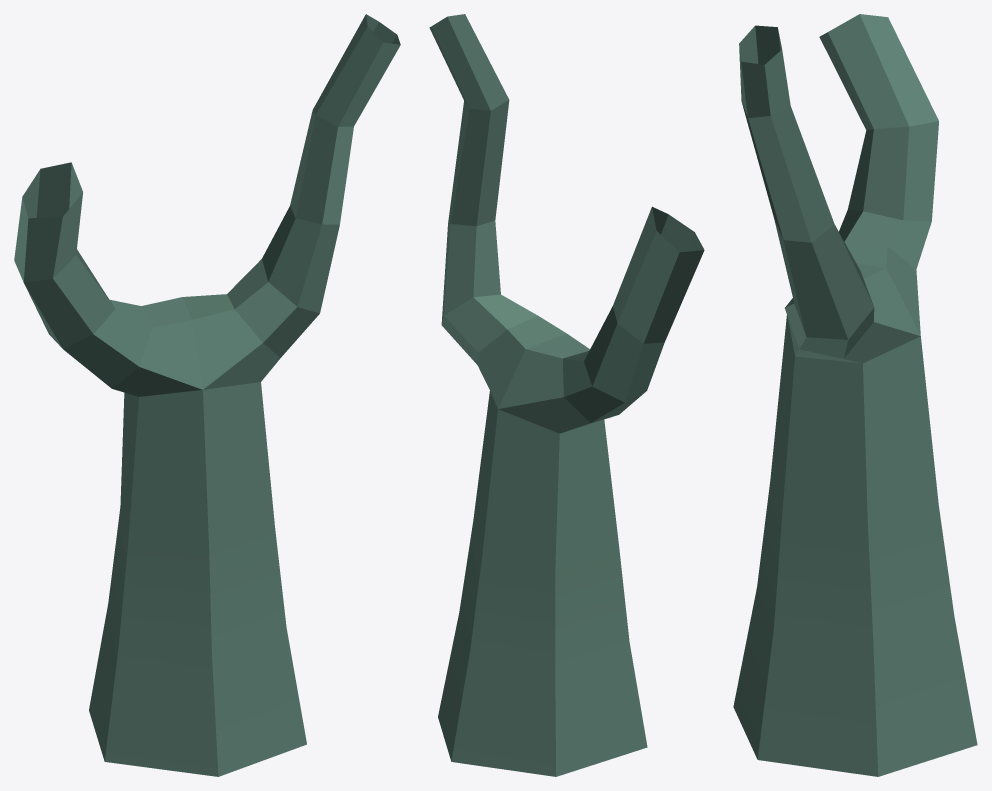
File: tronco.fbx
3 views of the same model, side by side, from view 1: azimuth 30°, elevation 25°; view 2: azimuth 150°, elevation 25°; view 3: azimuth 270°, elevation 25° (orthographic). The views are drawn at different scales.
Visible parts, largest first — view 1: P_tronco; view 2: P_tronco; view 3: P_tronco.
Boxes of the visible parts, left/top/right/bottom form: P_tronco: left=14, top=14, right=400, bottom=776; P_tronco: left=429, top=14, right=704, bottom=776; P_tronco: left=733, top=14, right=977, bottom=776.
Bounding box in the file's own units: 86.28 × 176 × 50.56.
